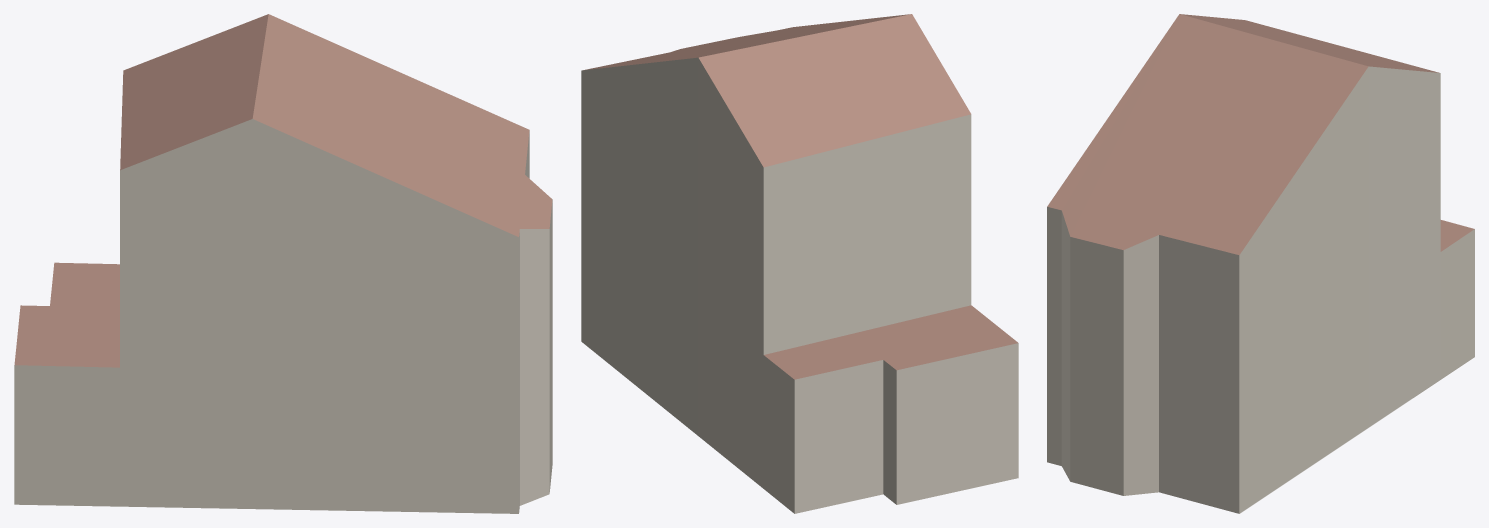
The picture shows the model from 3 angles, left to right: view 1: azimuth 30°, elevation 25°; view 2: azimuth 150°, elevation 25°; view 3: azimuth 270°, elevation 25°; orthographic projection. The views are drawn at different scales.
Size of the model in its own units: 13.65 by 10.55 by 11.31.
